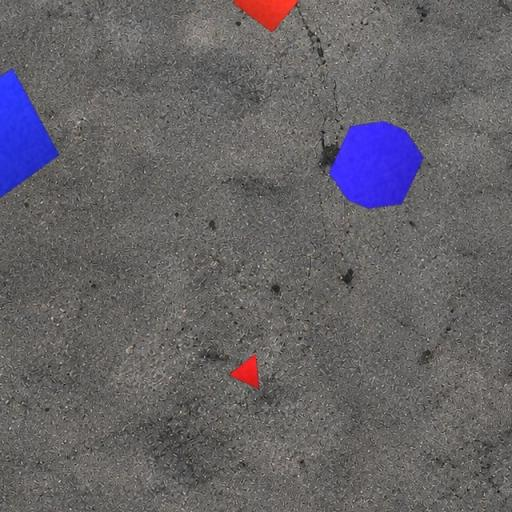BLUE_SQUARE: (0, 68, 60, 215)
RED_SQUARE: (232, 0, 304, 33)
